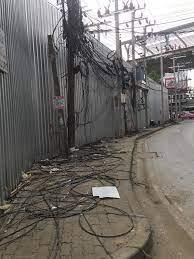wires: (32, 177, 90, 227), (85, 25, 117, 99)
